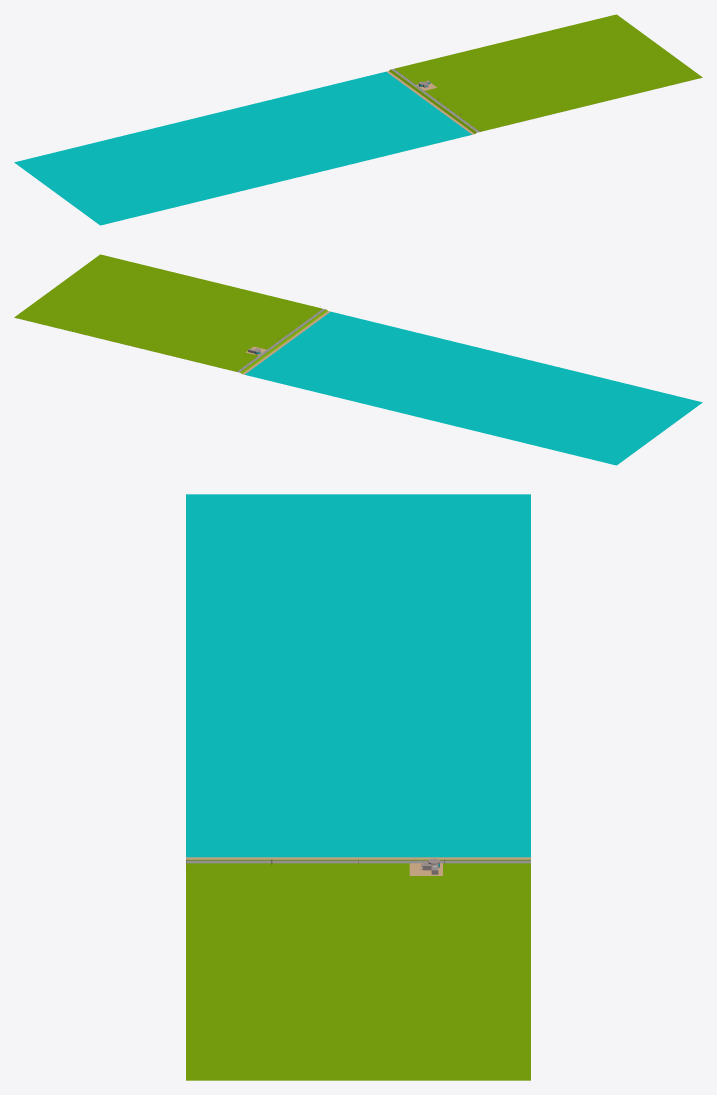
File: searoad04.glb
The picture shows the model from 3 angles, top to bottom: view 1: azimuth 30°, elevation 25°; view 2: azimuth 150°, elevation 25°; view 3: azimuth 270°, elevation 25°; orthographic projection. The views are drawn at different scales.
Parts seen in each view (by area): view 1: Geom3D (×3); view 2: Geom3D (×3); view 3: Geom3D (×4).
Part boxes in pixels (box(x1,y1,x2,y2)): Geom3D (×3): box(14, 14, 702, 225); Geom3D (×3): box(14, 254, 702, 465); Geom3D (×4): box(186, 494, 530, 1080).
Bounding box in the file's own units: 1.65e+07 × 101511 × 4085865.
11 materials, 4 textured.
